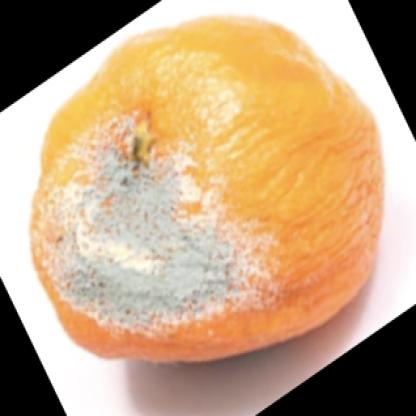rotten: (34, 17, 384, 362)
